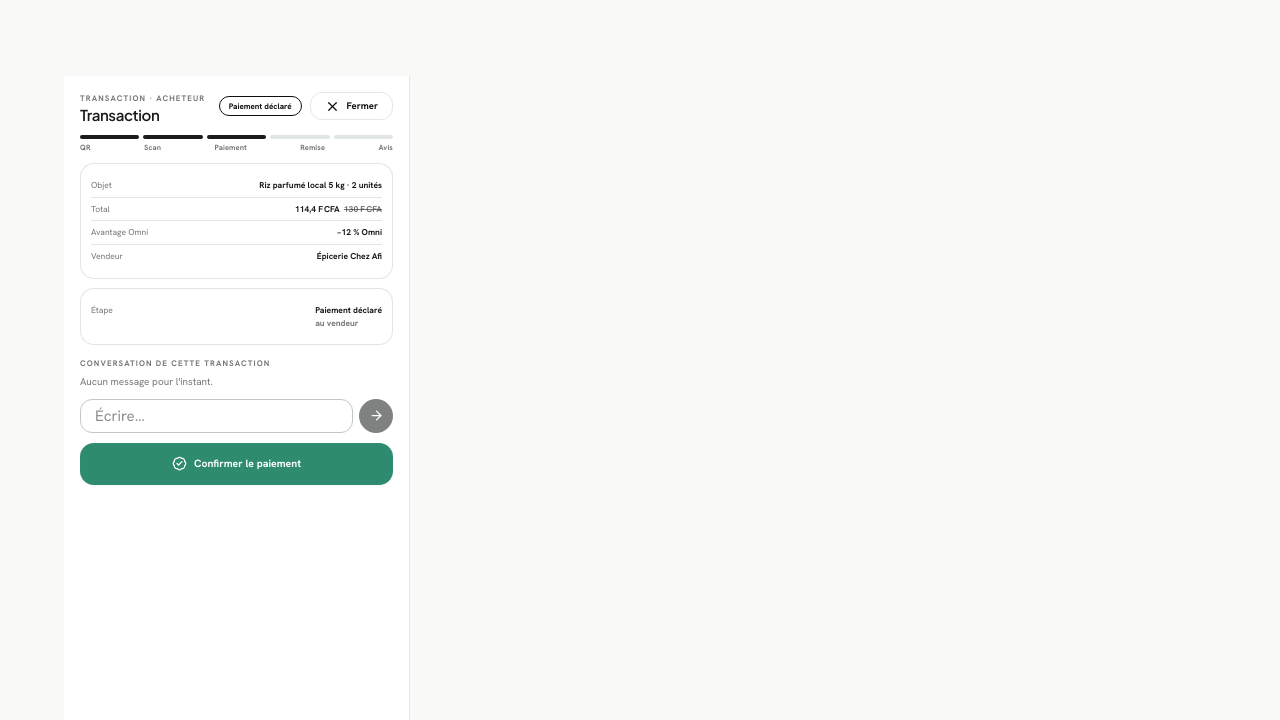
Test: TransactionRoom — S-27, surface symétrique acheteur/vendeur › un refus serveur honnête est affiché, pas un succès silencieux
Click the button "Confirmer le paiement" at (236, 464), box [80,443,393,485]
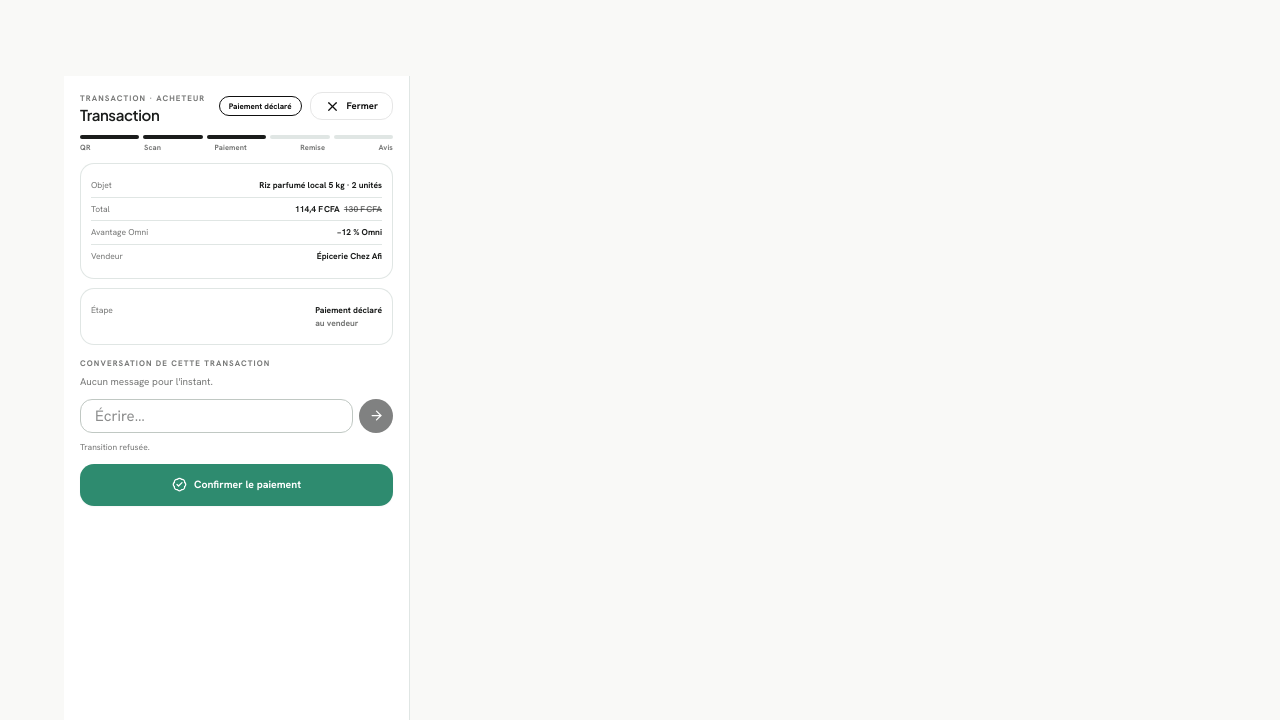
Expected: the text "Transition refusée." is shown, [80,441,150,453]
